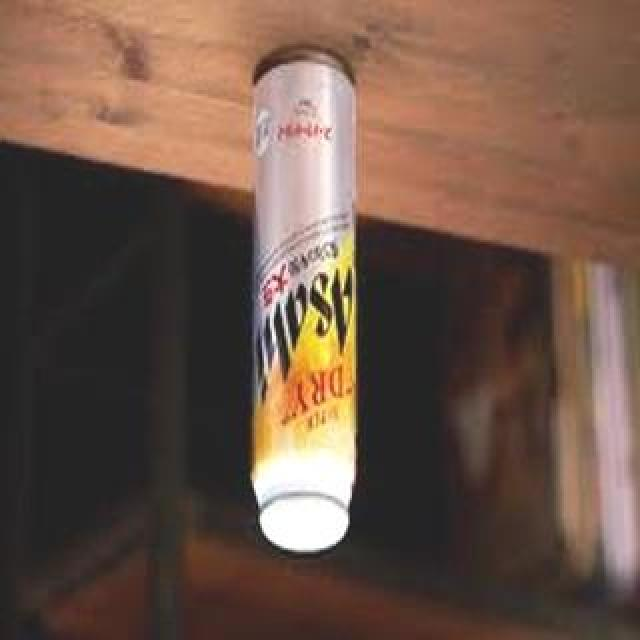Can: (235, 49, 363, 555)
